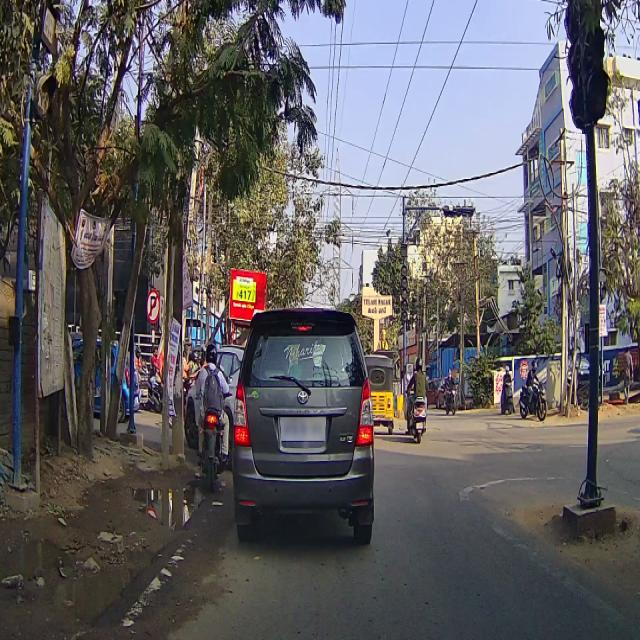car ahead at: (226, 290, 383, 551)
motorcycle ahead at: (196, 400, 232, 490)
